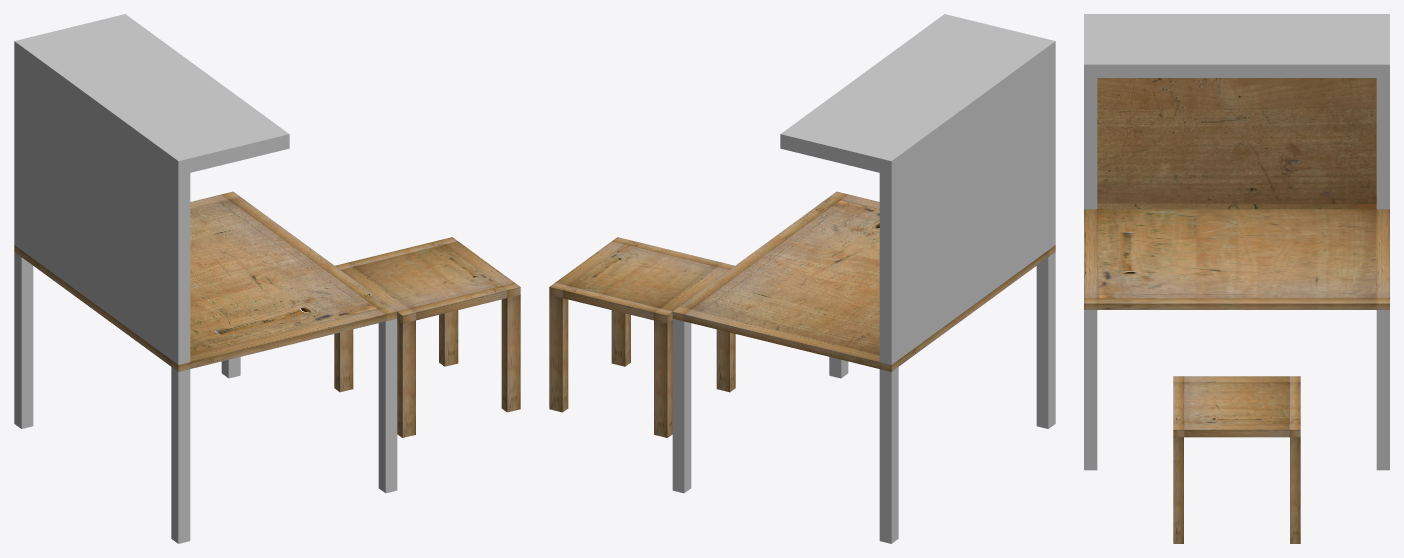
Rendered from Itens_Porao.fbx.
The picture shows the model from 3 angles, left to right: view 1: azimuth 30°, elevation 25°; view 2: azimuth 150°, elevation 25°; view 3: azimuth 270°, elevation 25°; orthographic projection. The views are drawn at different scales.
Parts seen in each view (by area): view 1: Mesa_Trabalho, Cadeira; view 2: Mesa_Trabalho, Cadeira; view 3: Mesa_Trabalho, Cadeira.
Boxes of the visible parts, left/top/right/bottom form: Mesa_Trabalho: left=14, top=14, right=397, bottom=543; Cadeira: left=334, top=237, right=520, bottom=437; Mesa_Trabalho: left=672, top=14, right=1055, bottom=543; Cadeira: left=549, top=237, right=735, bottom=437; Mesa_Trabalho: left=1084, top=14, right=1389, bottom=470; Cadeira: left=1173, top=376, right=1300, bottom=543.
Size of the model in its own units: 356 by 334 by 260.
